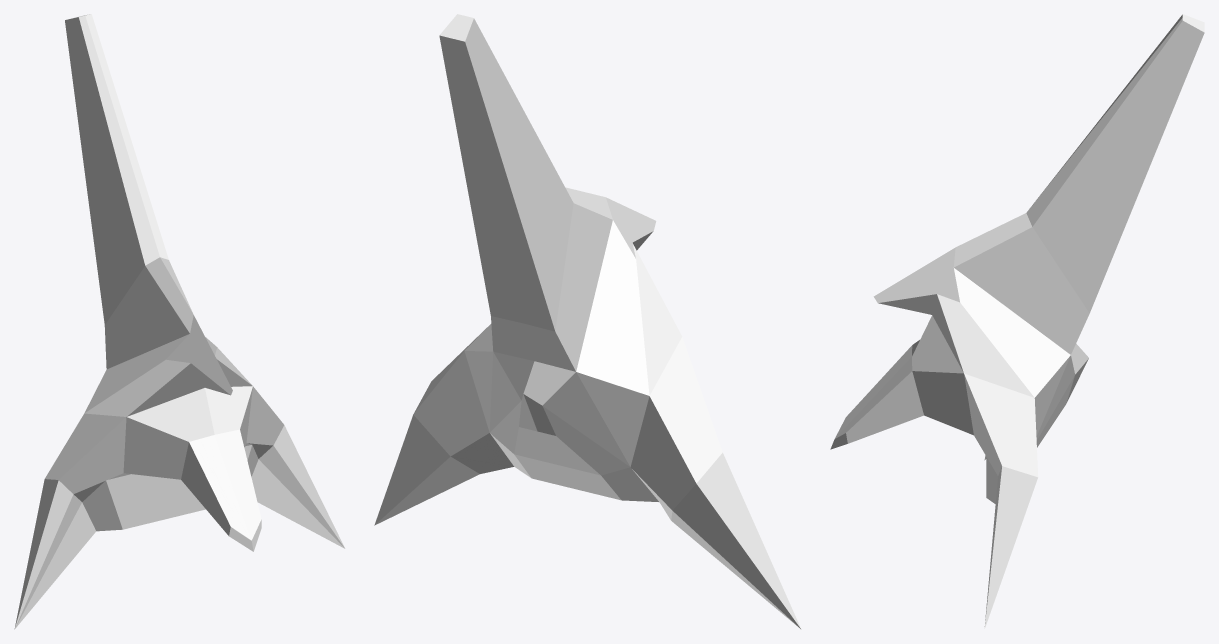
File: head_21.fbx
The picture shows the model from 3 angles, left to right: view 1: azimuth 30°, elevation 25°; view 2: azimuth 150°, elevation 25°; view 3: azimuth 270°, elevation 25°; orthographic projection. The views are drawn at different scales.
Visible parts, largest first — view 1: Cube.147; view 2: Cube.147; view 3: Cube.147.
Part boxes in pixels (x1,y1,x2,y2): Cube.147: (14,14,345,629); Cube.147: (374,14,801,629); Cube.147: (830,14,1204,628).
Bounding box in the file's own units: 67.18 × 97.83 × 62.86.
